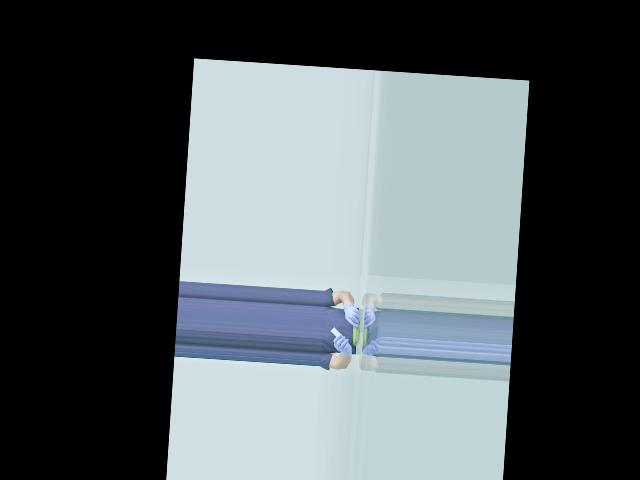cucumber: (352, 318, 360, 346)
